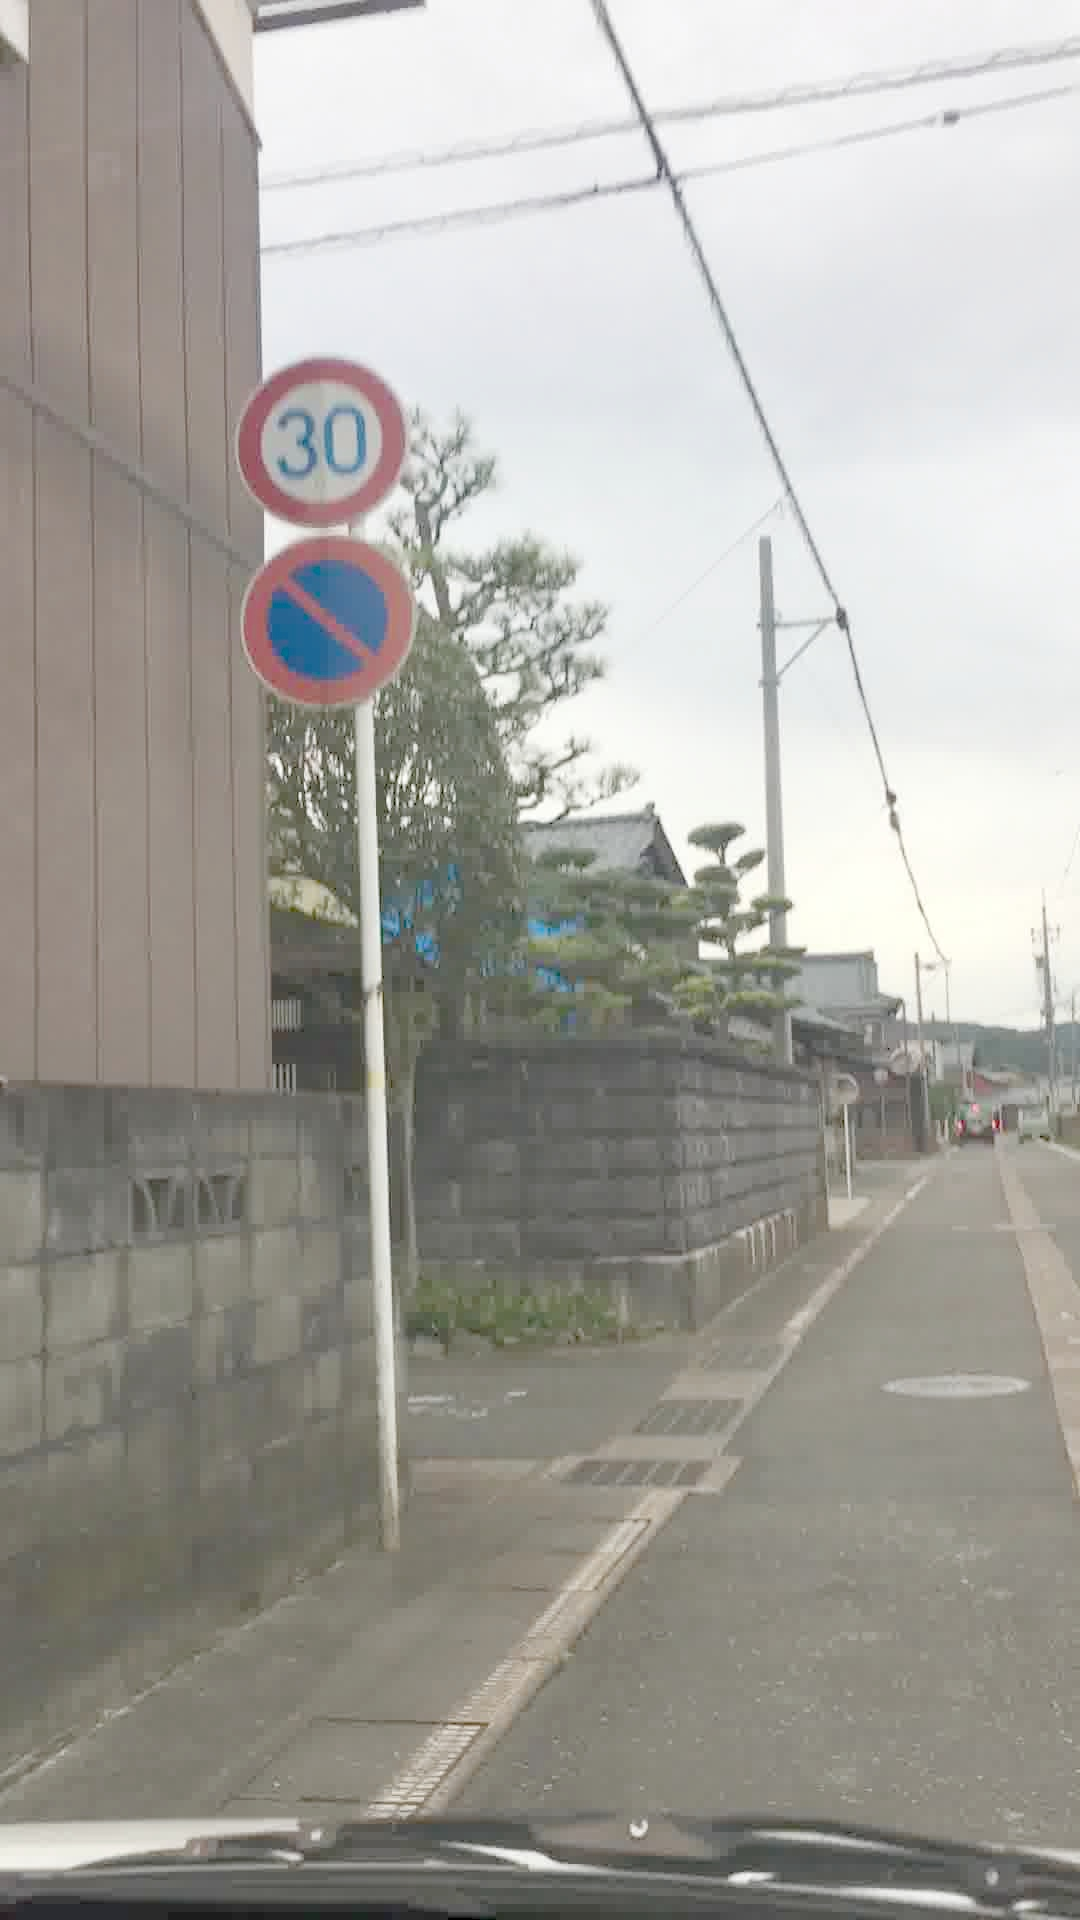Prohibition_sign: (228, 531, 419, 716)
Speed_sign: (228, 344, 402, 520)
